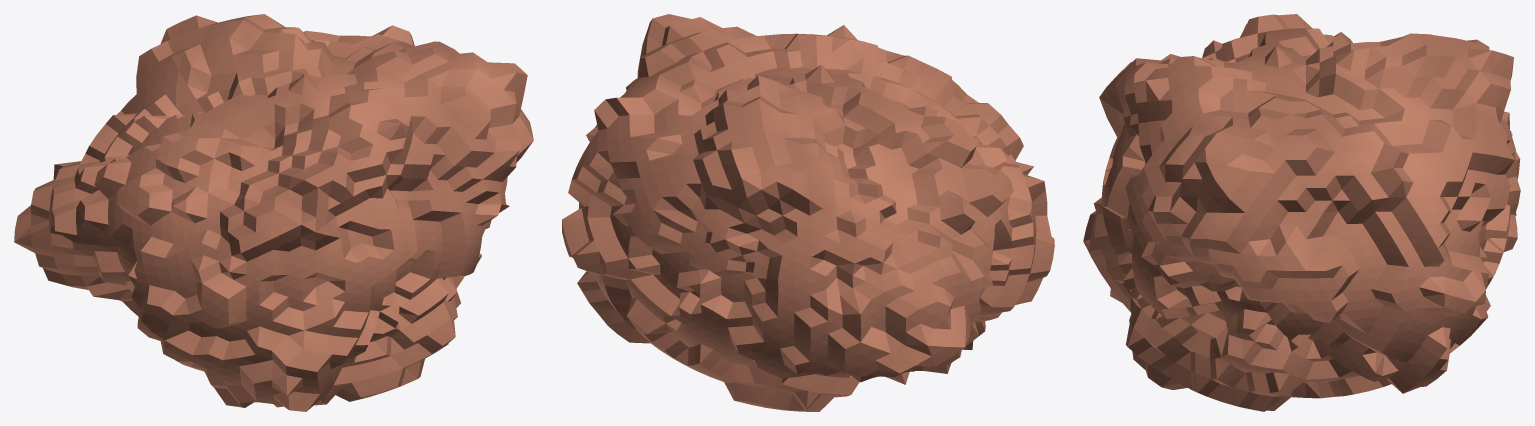
Rendered from red-ochre.glb.
3 views of the same model, side by side, from view 1: azimuth 30°, elevation 25°; view 2: azimuth 150°, elevation 25°; view 3: azimuth 270°, elevation 25° (orthographic). The views are drawn at different scales.
Parts seen in each view (by area): view 1: geometry_0; view 2: geometry_0; view 3: geometry_0.
Part boxes in pixels (<box>): geometry_0: <box>14,14,533,411</box>; geometry_0: <box>562,14,1054,411</box>; geometry_0: <box>1083,14,1520,411</box>.
Size of the model in its own units: 0.12 by 0.0817 by 0.0973.
